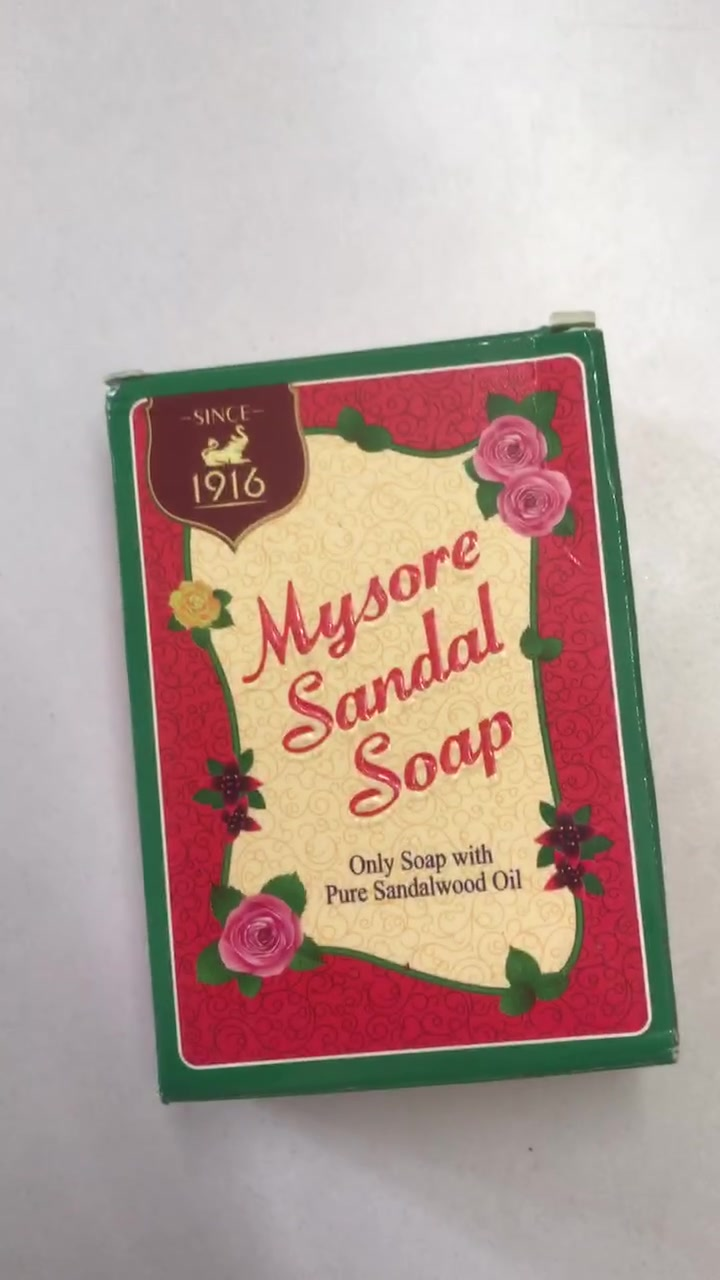mysore sandal soap: (105, 327, 678, 1110)
